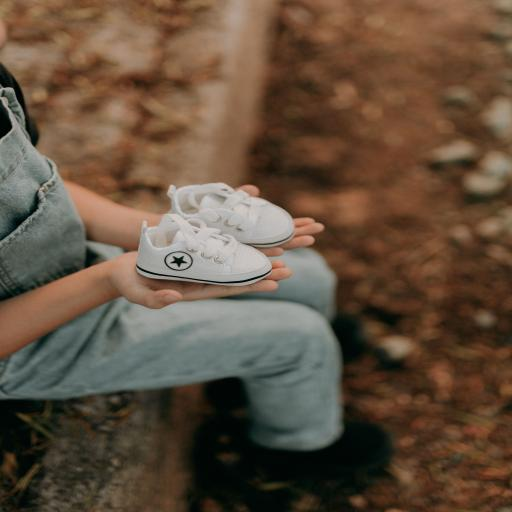shoe: (137, 214, 271, 285), (168, 183, 295, 247)
